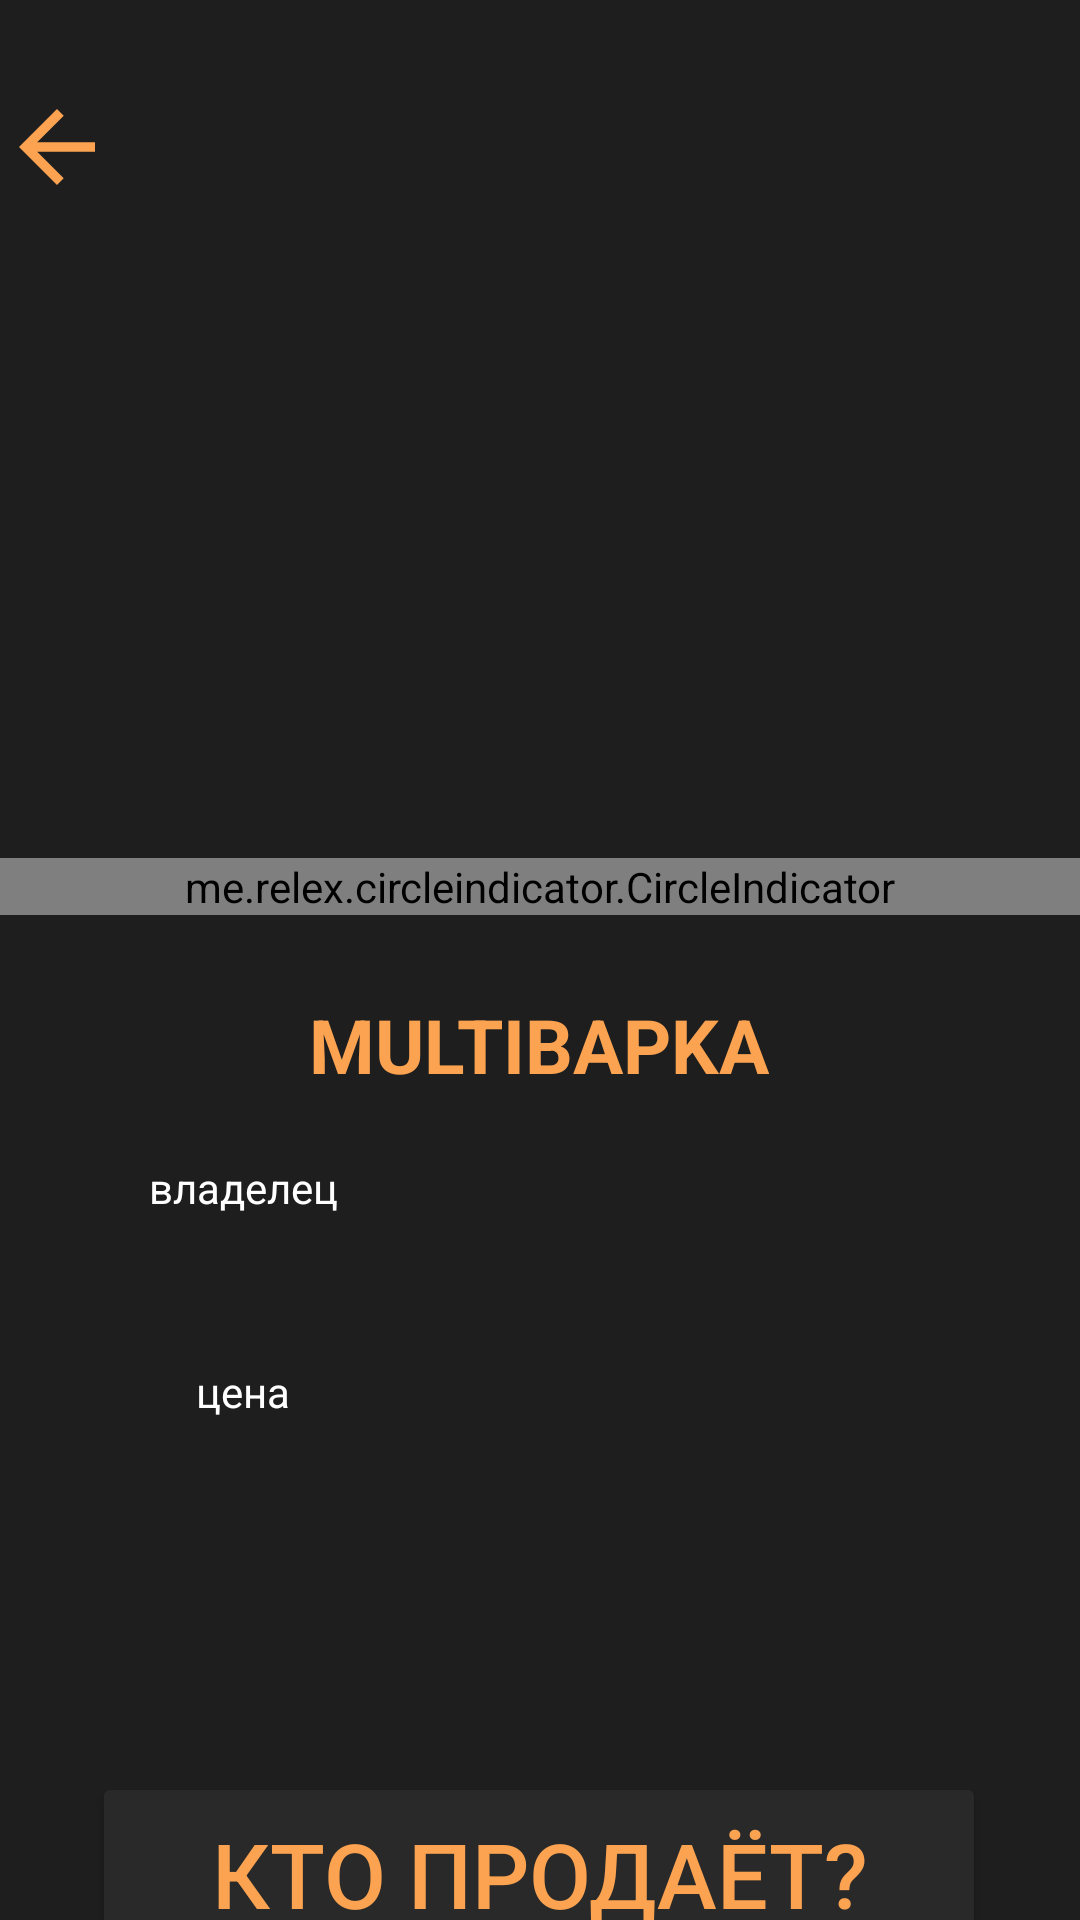

Point at icon controls on the screen. Image size 1080px x 1920px, points as point (x, y).
back: point (57, 147)
